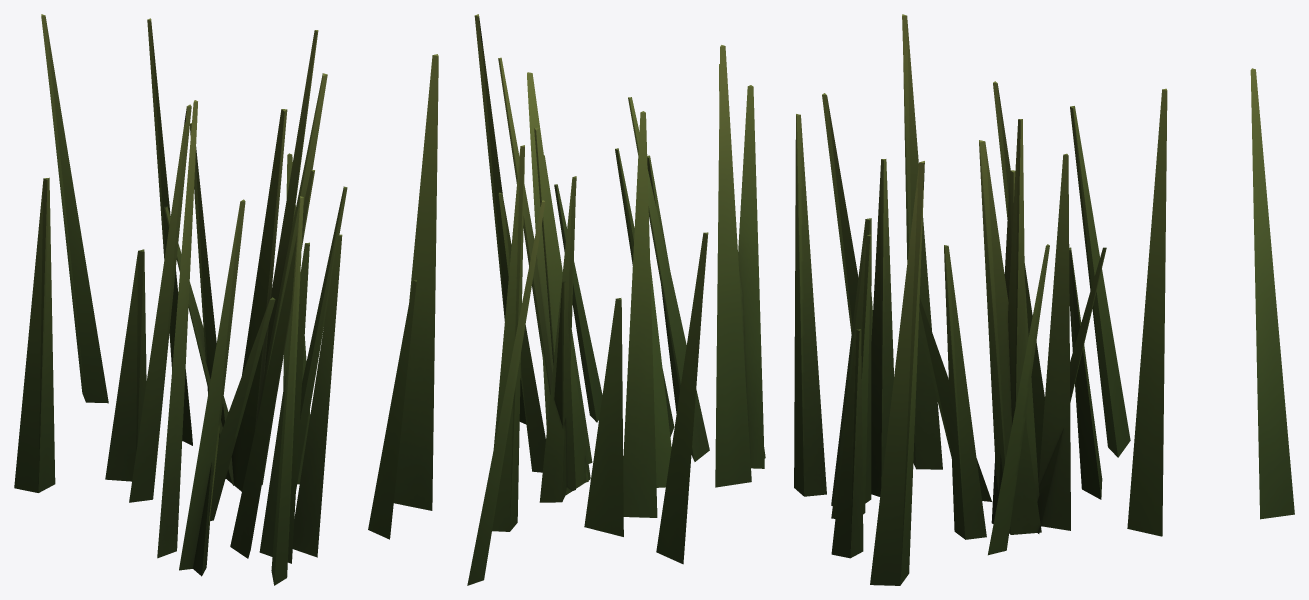
The model's file is Hierba_Alta.glb.
3 views of the same model, side by side, from view 1: azimuth 30°, elevation 25°; view 2: azimuth 150°, elevation 25°; view 3: azimuth 270°, elevation 25° (orthographic). The views are drawn at different scales.
Parts seen in each view (by area): view 1: Hierba_Alta; view 2: Hierba_Alta; view 3: Hierba_Alta.
Part boxes in pixels (x1,y1,x2,y2): Hierba_Alta: (14, 14, 438, 585); Hierba_Alta: (467, 14, 765, 585); Hierba_Alta: (794, 14, 1294, 585).
Bounding box in the file's own units: 1.79 × 2.39 × 2.36.
Materials: 1 (1 with a texture image).
